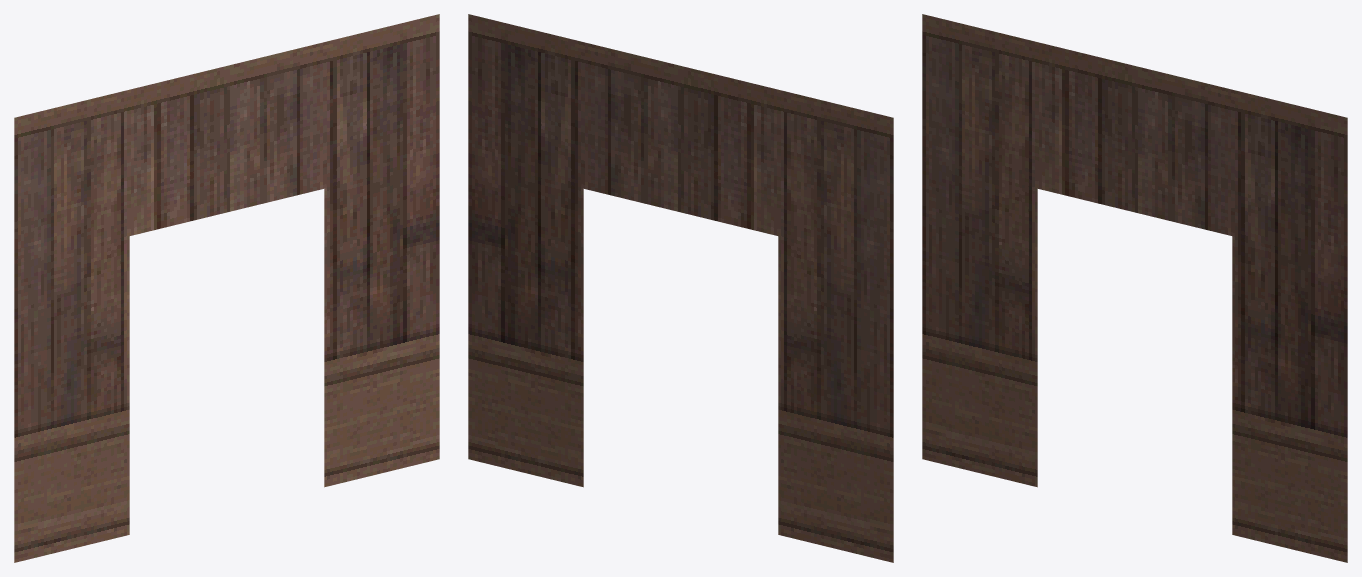
The model's file is wallDoorWood.glb.
3 renders of one model, left to right at view 1: azimuth 30°, elevation 25°; view 2: azimuth 150°, elevation 25°; view 3: azimuth 330°, elevation 25°, orthographic.
Parts seen in each view (by area): view 1: wallDoorWood; view 2: wallDoorWood; view 3: wallDoorWood.
Boxes of the visible parts, left/top/right/bottom form: wallDoorWood: left=14, top=14, right=439, bottom=562; wallDoorWood: left=468, top=14, right=893, bottom=562; wallDoorWood: left=922, top=14, right=1347, bottom=562.
Bounding box in the file's own units: 4 × 4 × 1.19e-07.
Materials: 1 (1 with a texture image).
